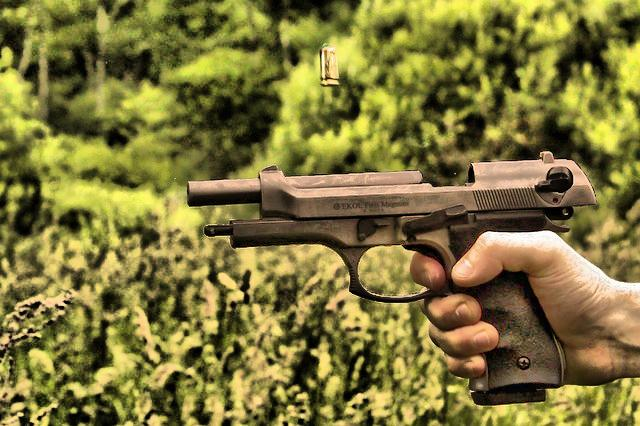pistol: (184, 151, 598, 405)
